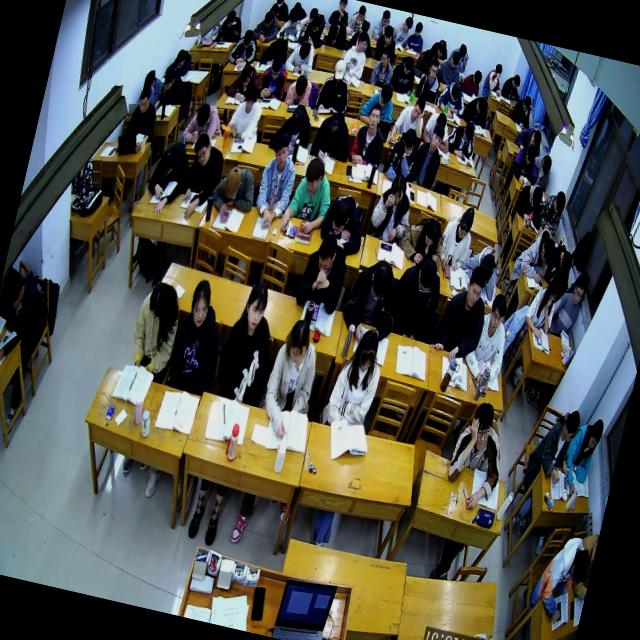bow: (140, 136, 193, 218), (316, 189, 371, 257), (208, 159, 262, 222), (396, 210, 450, 272), (456, 240, 504, 301), (308, 105, 357, 164), (267, 99, 315, 157), (179, 97, 228, 152), (225, 58, 264, 106), (418, 106, 456, 153), (283, 36, 317, 76), (258, 32, 291, 70), (282, 70, 314, 107), (252, 5, 282, 44), (514, 118, 545, 154), (164, 44, 194, 78), (324, 14, 351, 50), (428, 34, 452, 63)
down: (542, 238, 578, 290), (284, 318, 313, 366), (313, 230, 342, 278), (365, 256, 393, 304), (144, 278, 172, 326), (0, 269, 28, 317), (354, 328, 381, 374), (414, 253, 440, 296), (566, 543, 592, 585), (329, 196, 354, 236), (300, 156, 326, 194), (220, 162, 246, 200), (384, 168, 408, 207), (446, 40, 472, 75), (559, 409, 582, 446), (455, 204, 476, 242), (322, 114, 343, 148), (584, 416, 604, 451), (157, 144, 178, 174), (545, 271, 563, 305), (136, 82, 154, 116), (399, 124, 418, 156), (478, 248, 497, 279), (423, 218, 442, 248), (376, 78, 395, 108), (192, 100, 212, 128), (538, 237, 557, 266), (550, 188, 568, 218), (288, 108, 307, 136), (330, 58, 348, 84), (268, 53, 284, 80), (292, 72, 310, 96), (528, 180, 544, 206), (223, 88, 246, 106), (410, 96, 426, 120), (238, 62, 254, 86), (461, 117, 476, 142), (286, 6, 302, 29), (240, 26, 255, 50), (558, 249, 574, 271), (222, 8, 238, 30), (297, 38, 312, 61), (142, 68, 158, 89), (274, 32, 288, 56), (528, 125, 543, 146), (540, 152, 554, 174), (519, 94, 533, 116), (174, 45, 188, 67), (262, 5, 276, 27), (473, 95, 488, 115), (524, 141, 538, 162), (448, 82, 462, 103), (401, 55, 415, 76), (310, 12, 323, 33), (382, 24, 394, 46), (448, 50, 461, 69), (420, 48, 432, 68), (434, 38, 446, 58), (412, 17, 424, 37), (492, 60, 504, 80), (509, 73, 522, 90), (471, 69, 483, 87), (327, 22, 339, 40), (380, 8, 391, 26), (356, 4, 366, 22), (456, 42, 467, 58), (274, 0, 285, 8)
lookup: (185, 278, 216, 332), (465, 400, 496, 452), (241, 280, 272, 332), (460, 264, 488, 308), (486, 290, 510, 334), (190, 130, 217, 169), (268, 130, 292, 168), (241, 82, 261, 114), (426, 121, 446, 152), (365, 99, 384, 130), (572, 273, 588, 303), (426, 58, 440, 80), (337, 0, 348, 11)
sit: (211, 274, 286, 406), (438, 396, 516, 518), (256, 311, 329, 438), (162, 274, 234, 396), (318, 322, 390, 434), (122, 274, 188, 381), (432, 258, 496, 364), (525, 527, 594, 625), (338, 252, 408, 346), (248, 126, 306, 233), (462, 288, 518, 390), (0, 267, 56, 369), (386, 251, 448, 343), (277, 150, 339, 242), (177, 128, 230, 225), (293, 228, 353, 313), (524, 402, 582, 485), (364, 168, 420, 247), (556, 412, 605, 500), (435, 200, 479, 274), (520, 266, 564, 338), (406, 116, 448, 188), (122, 81, 164, 152), (224, 78, 269, 142), (547, 271, 588, 341), (380, 122, 423, 185), (314, 55, 356, 118), (388, 88, 431, 146), (508, 176, 550, 226), (358, 78, 400, 128), (255, 49, 293, 102), (154, 62, 192, 112), (339, 26, 373, 80), (208, 5, 245, 54), (534, 186, 568, 238), (444, 114, 480, 162), (413, 52, 446, 104), (228, 22, 262, 68), (434, 77, 469, 120), (508, 141, 542, 185), (136, 65, 166, 110), (298, 8, 330, 48), (368, 46, 398, 88), (435, 46, 466, 86), (275, 4, 306, 44), (460, 92, 492, 130), (480, 56, 508, 98), (528, 148, 555, 191), (410, 42, 440, 78), (370, 6, 398, 44), (345, 0, 372, 38), (509, 92, 536, 128), (402, 17, 429, 53), (390, 12, 414, 50), (458, 63, 484, 97), (500, 68, 524, 100), (327, 0, 352, 27), (161, 61, 179, 91), (267, 0, 294, 19)
